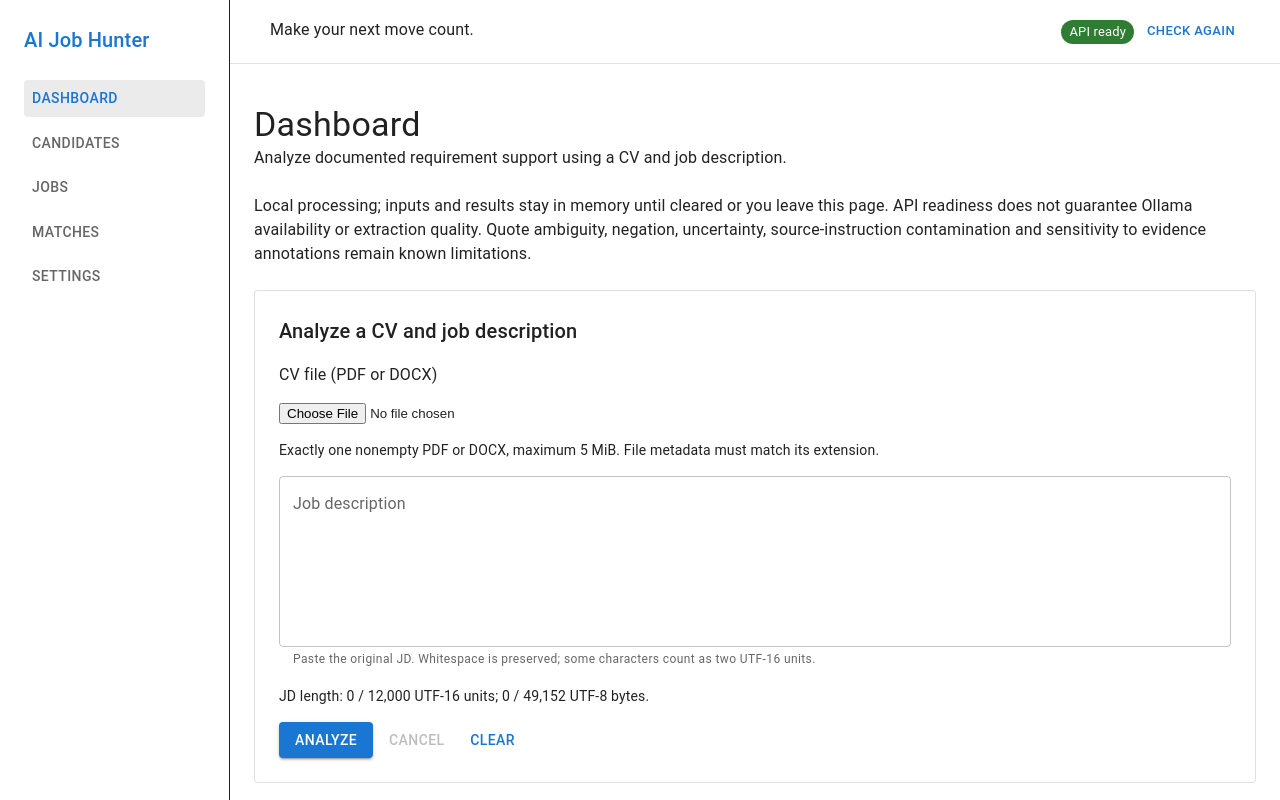
it: navigates to the honest Candidates placeholder
Click the link "Candidates". click: point(76, 142)
box: x1=32 y1=134 x2=120 y2=150
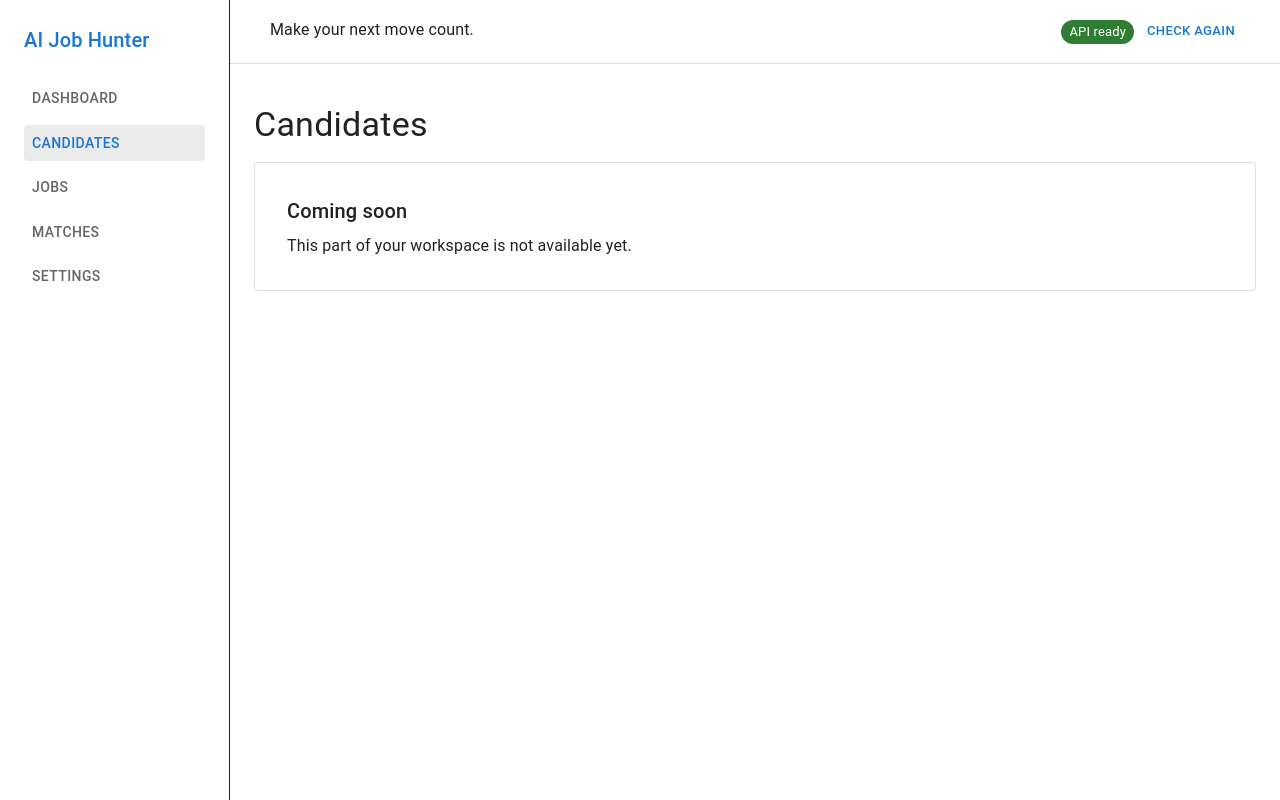
Expected: the heading "Candidates" is shown, x1=254 y1=104 x2=428 y2=144
Expected: the heading "Coming soon" is shown, x1=287 y1=199 x2=407 y2=223
Expected: the text "This part of your workspace is not available yet." is shown, x1=287 y1=236 x2=632 y2=255
